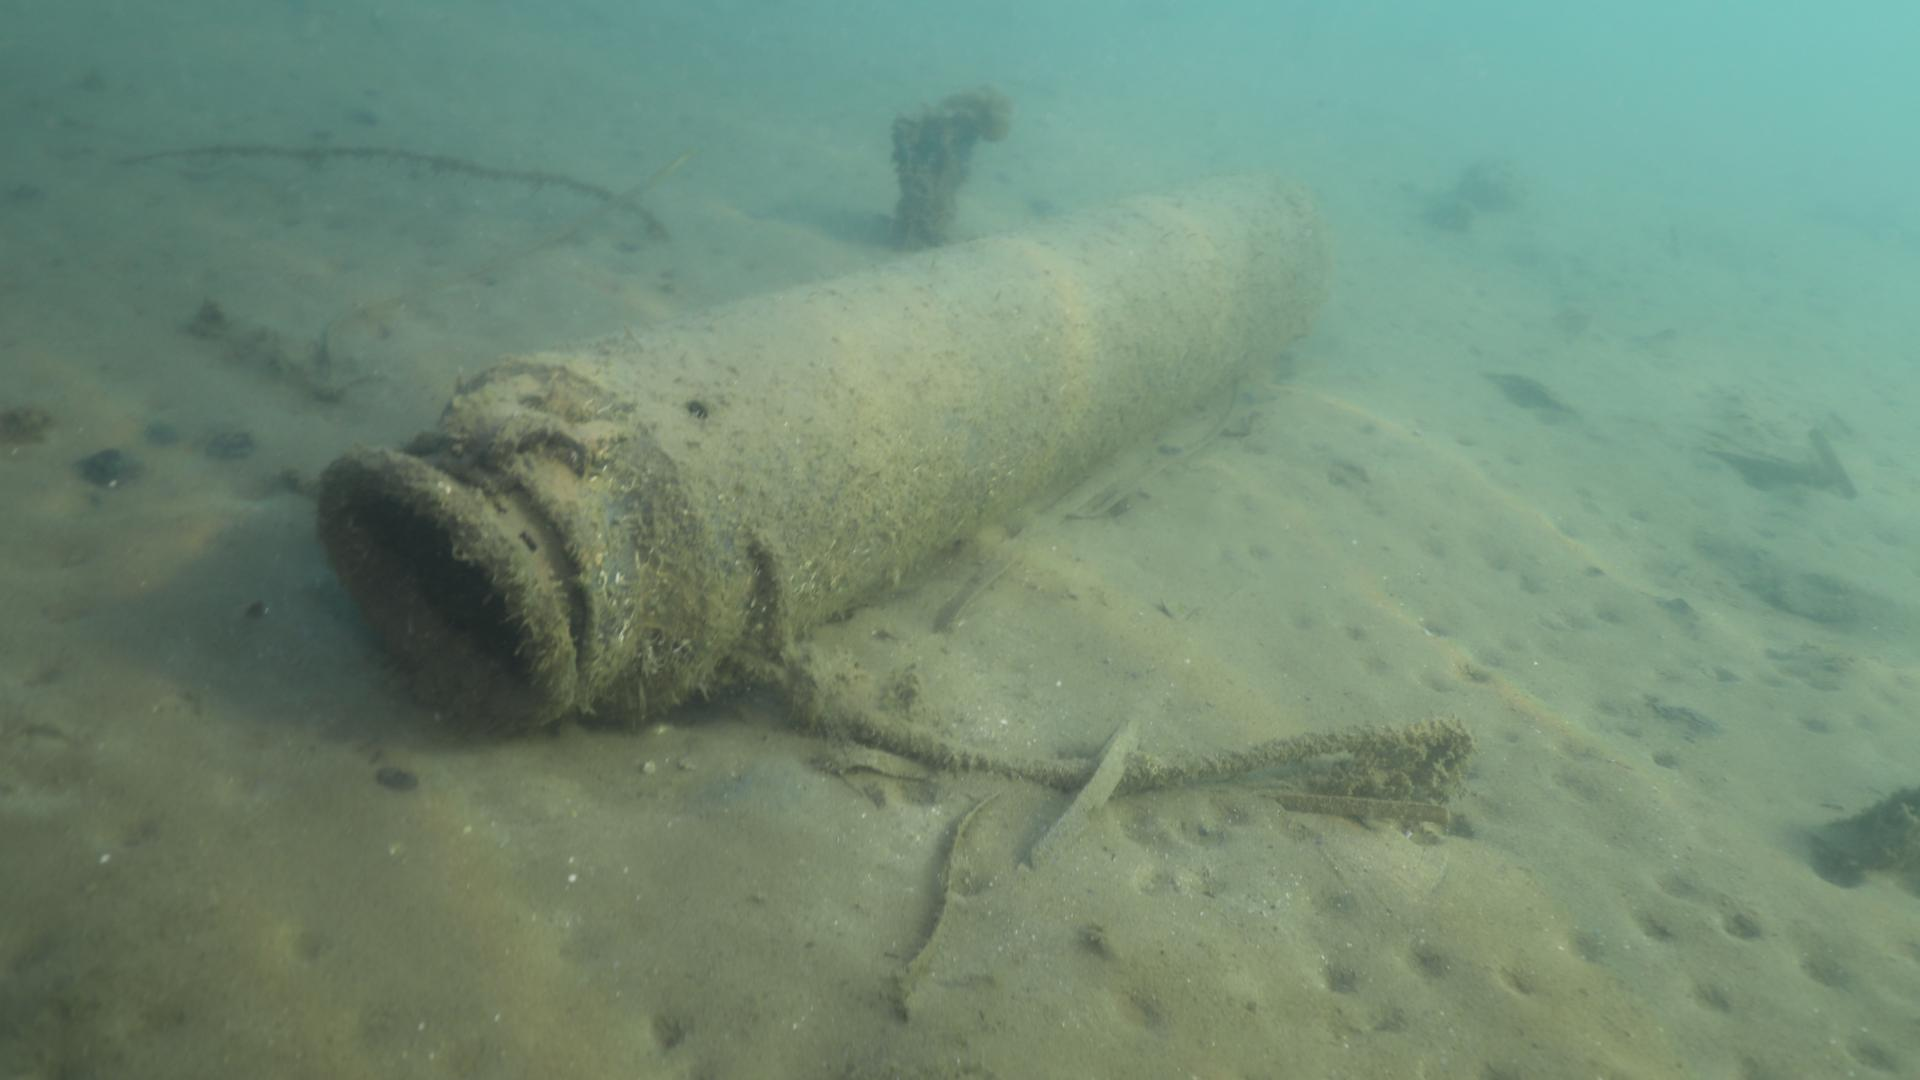eel fish trap: (318, 178, 1317, 741)
